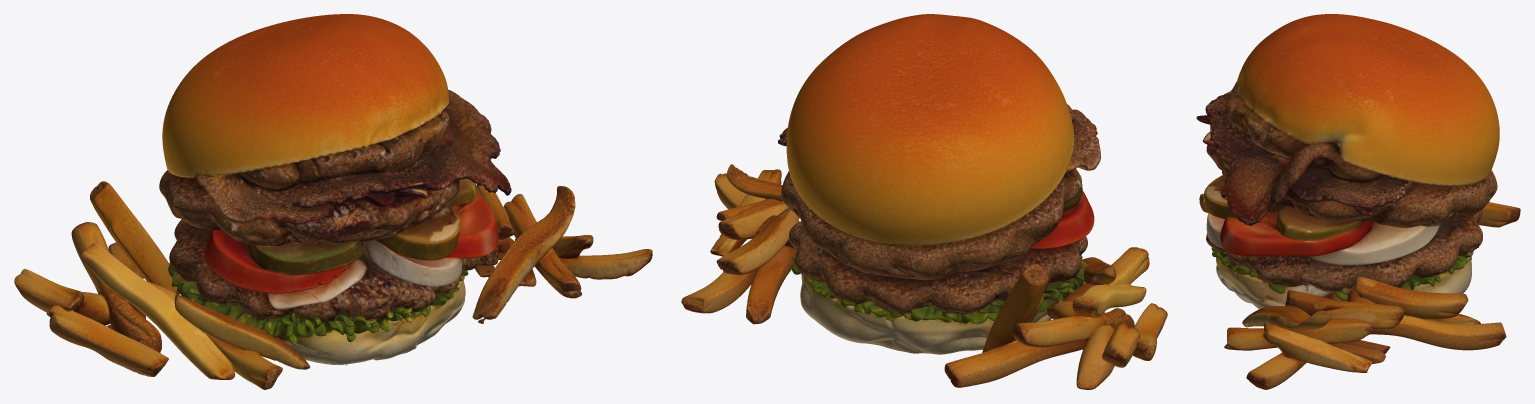
The model's file is heavymetal_3d_model.glb.
3 renders of one model, left to right at view 1: azimuth 30°, elevation 25°; view 2: azimuth 150°, elevation 25°; view 3: azimuth 270°, elevation 25°, orthographic. The views are drawn at different scales.
Parts seen in each view (by area): view 1: tripo_node_f30a4fcc-9170-48c6-84f5-192806f8ff40; view 2: tripo_node_f30a4fcc-9170-48c6-84f5-192806f8ff40; view 3: tripo_node_f30a4fcc-9170-48c6-84f5-192806f8ff40.
Part boxes in pixels (<box>): tripo_node_f30a4fcc-9170-48c6-84f5-192806f8ff40: <box>14,14,652,389</box>; tripo_node_f30a4fcc-9170-48c6-84f5-192806f8ff40: <box>681,14,1167,389</box>; tripo_node_f30a4fcc-9170-48c6-84f5-192806f8ff40: <box>1196,14,1520,389</box>.
Bounding box in the file's own units: 0.9785 × 0.4918 × 0.5765.
1 material, 1 textured.
